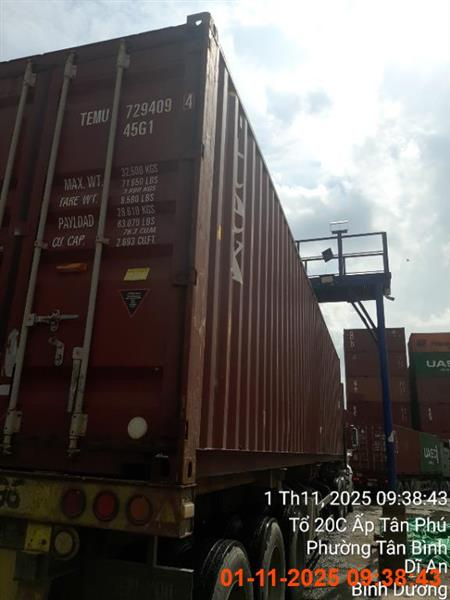hole: (1, 11, 396, 599), (1, 12, 375, 598)
